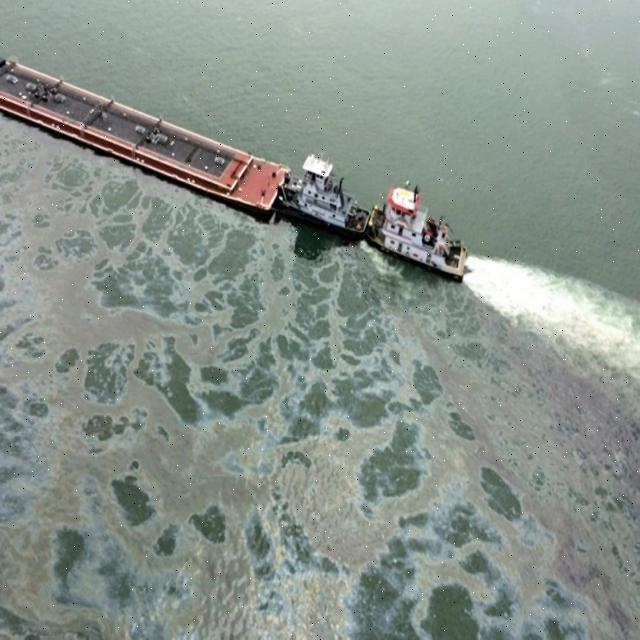sheen: (0, 115, 640, 639)
